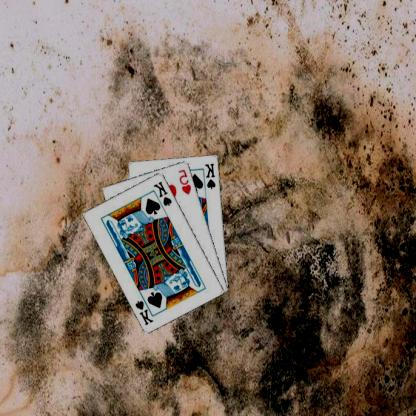5H: (178, 166, 194, 195)
KS: (135, 293, 157, 326), (153, 178, 175, 207), (204, 161, 219, 190)
